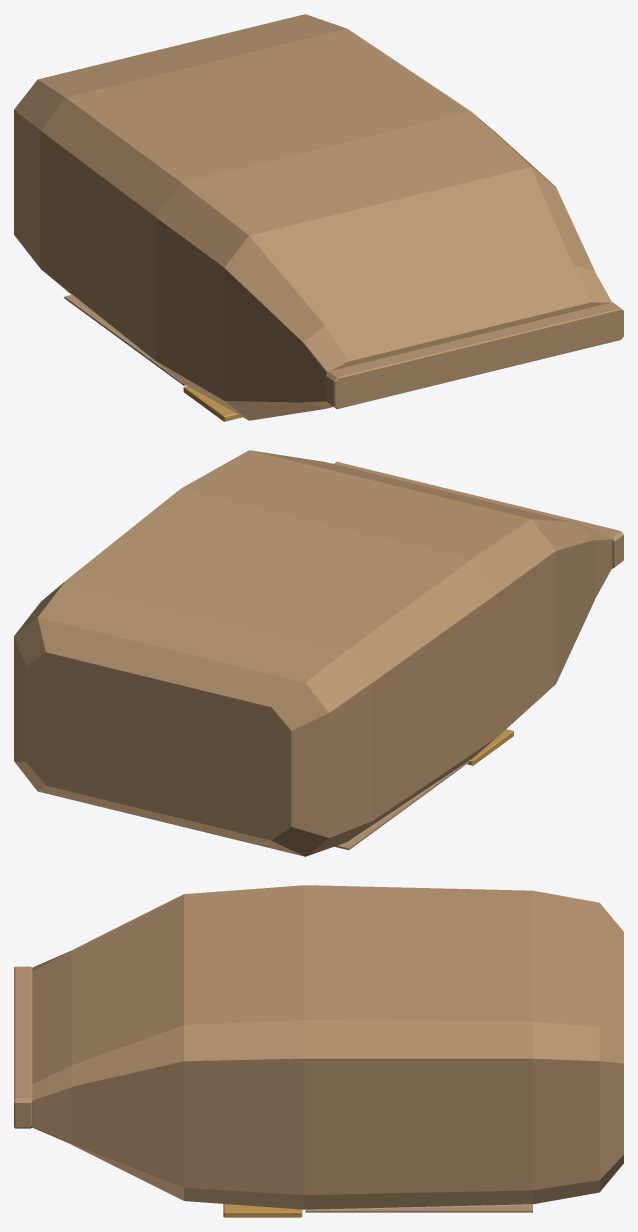
File: polenta.glb
3 renders of one model, top to bottom at view 1: azimuth 30°, elevation 25°; view 2: azimuth 150°, elevation 25°; view 3: azimuth 270°, elevation 25°, orthographic. The views are drawn at different scales.
Parts seen in each view (by area): view 1: polenta; view 2: polenta; view 3: polenta.
Boxes of the visible parts, left/top/right/bottom form: polenta: left=14, top=14, right=623, bottom=421; polenta: left=14, top=450, right=623, bottom=856; polenta: left=14, top=885, right=623, bottom=1217.
Size of the model in its own units: 0.1236 by 0.0721 by 0.201.
